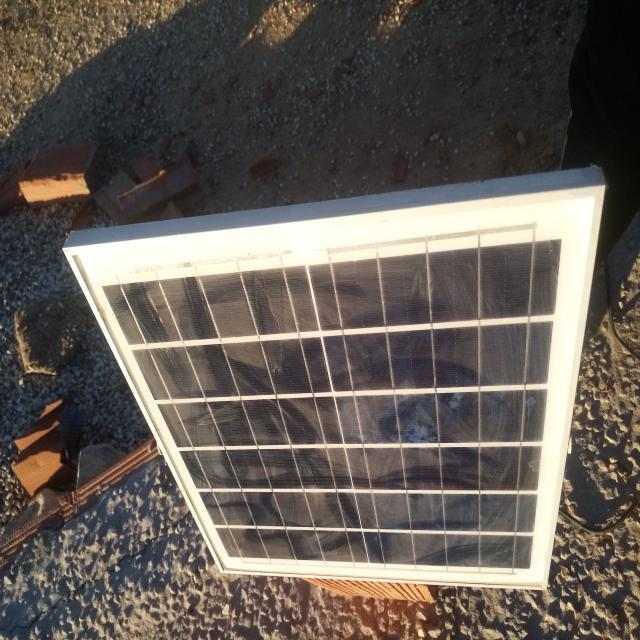faulty: (71, 189, 598, 589)
